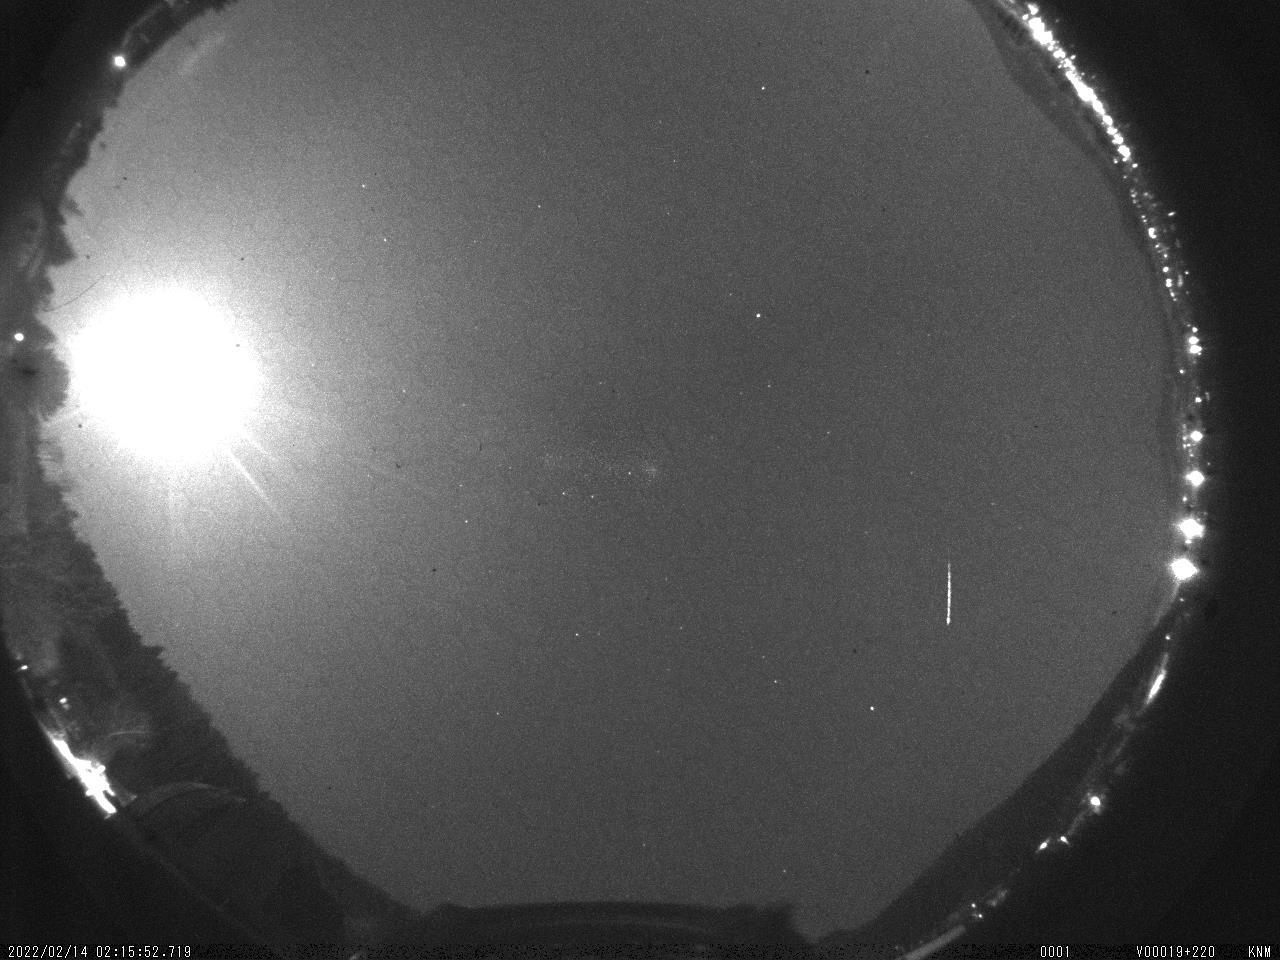Meteor: (940, 552, 957, 631)
